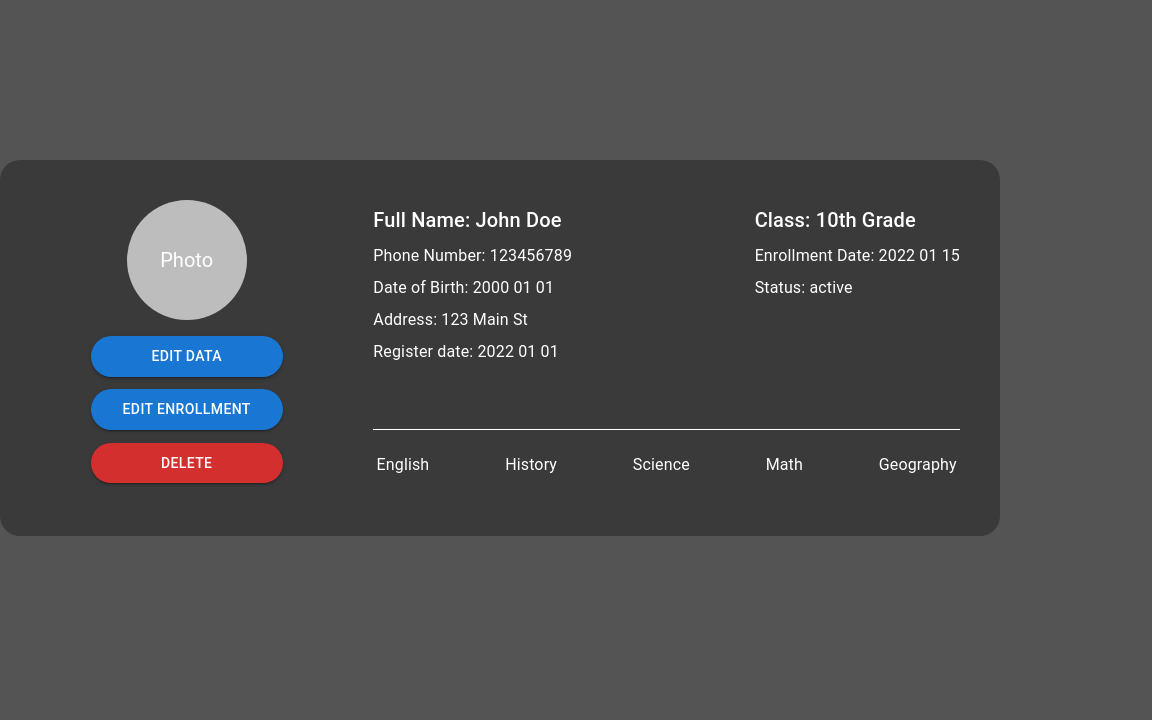
it: Student Details tests › renders error state for grades
Click the text "English": (403, 465) [373,450,432,480]
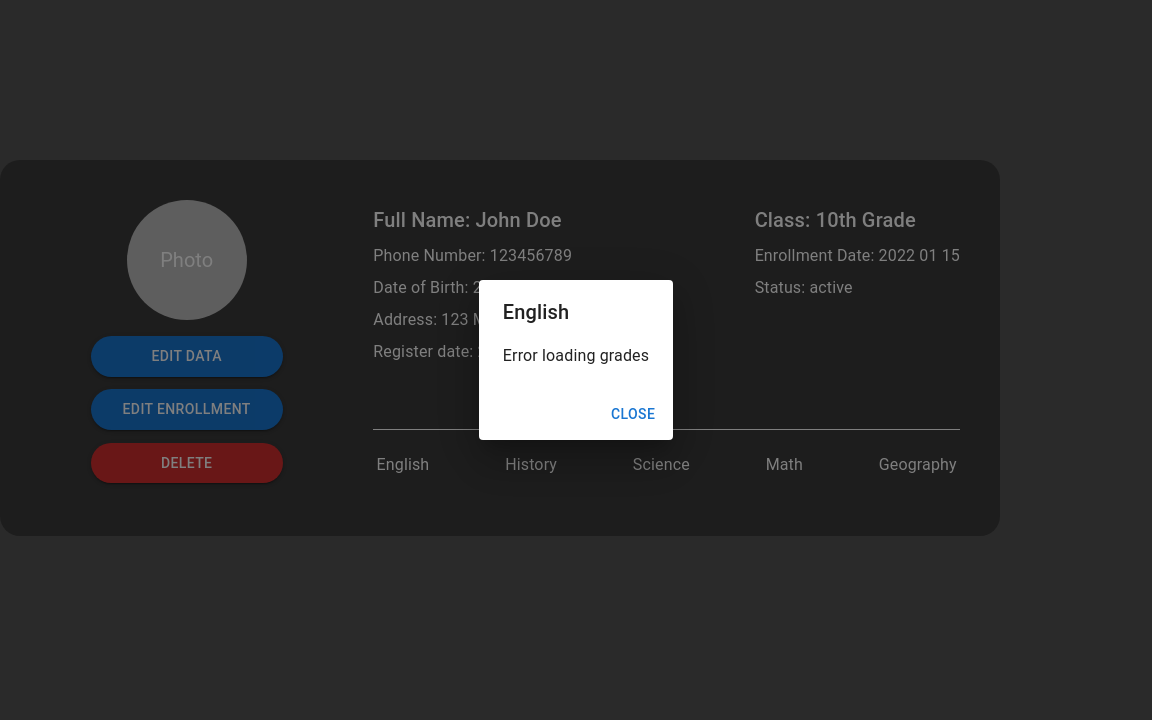
Result: the text "Error loading grades" is shown at [503,344,649,368]
